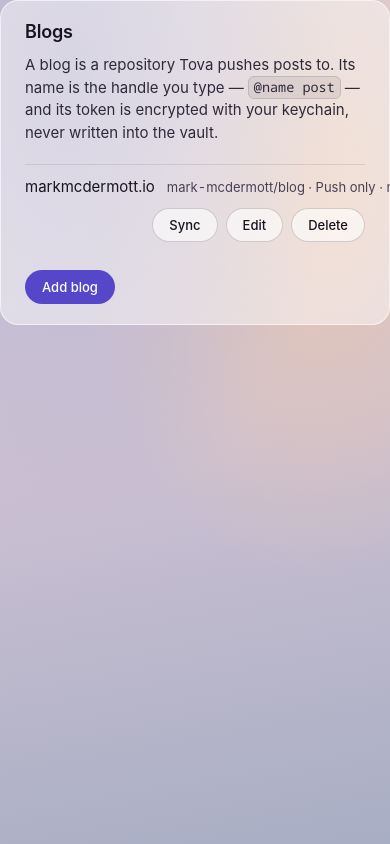
Test: BlogSection › says a token cannot be stored when there is no keychain
Click the button "Edit".
click(254, 225)  # box 226,208 -> 283,242
(page scrolled)
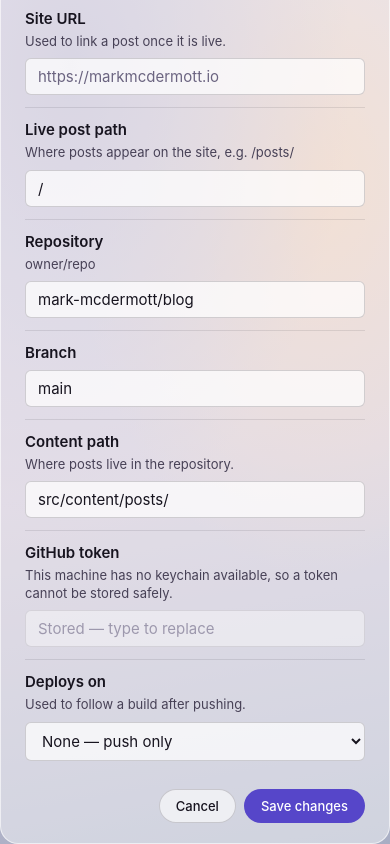
Expected: the password field labelled "GitHub token" is disabled, 25,610 -> 365,647
Expected: the text "no keychain available" is shown, 25,567 -> 338,601
